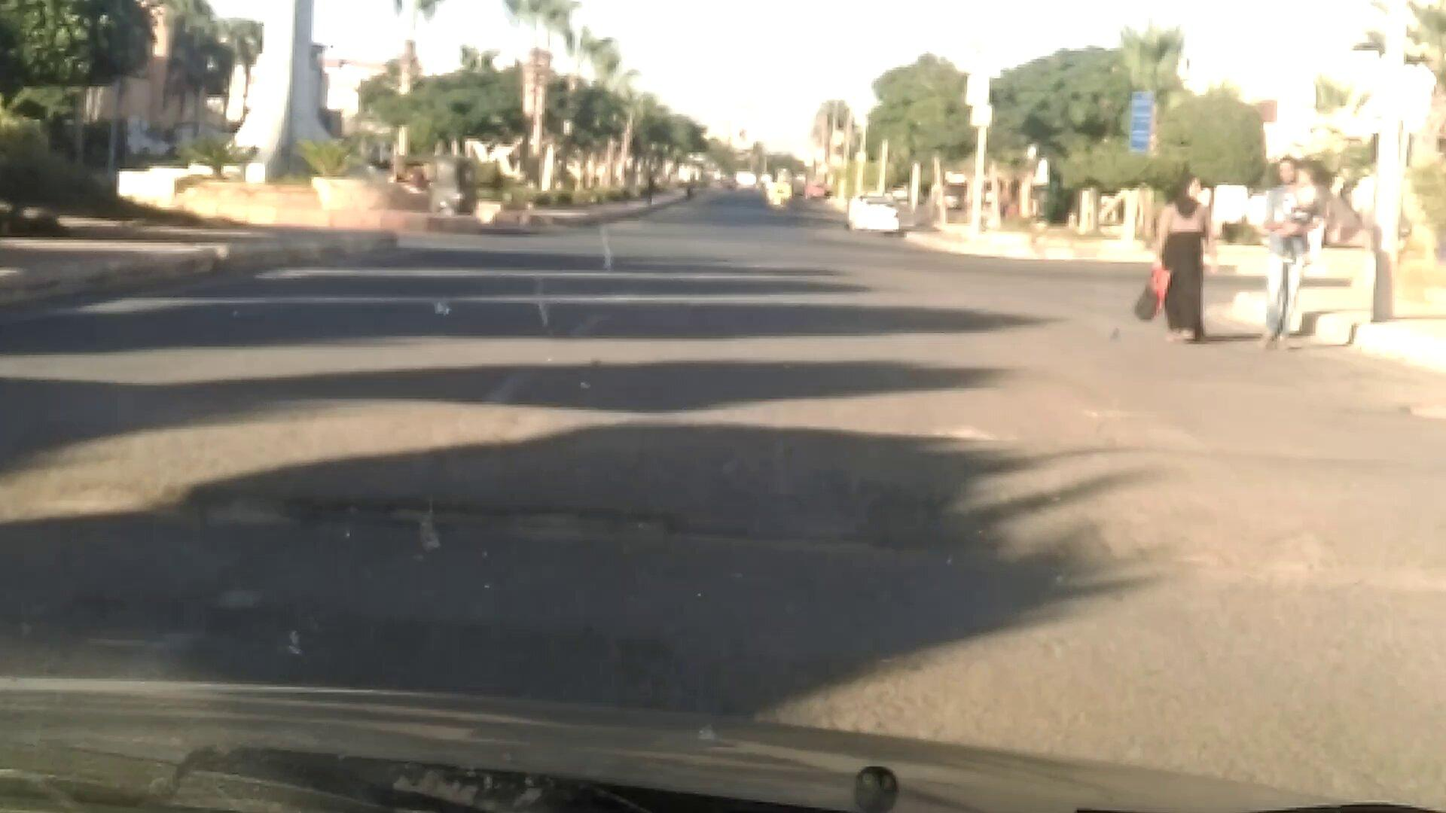Pothole: (320, 472, 1175, 587)
